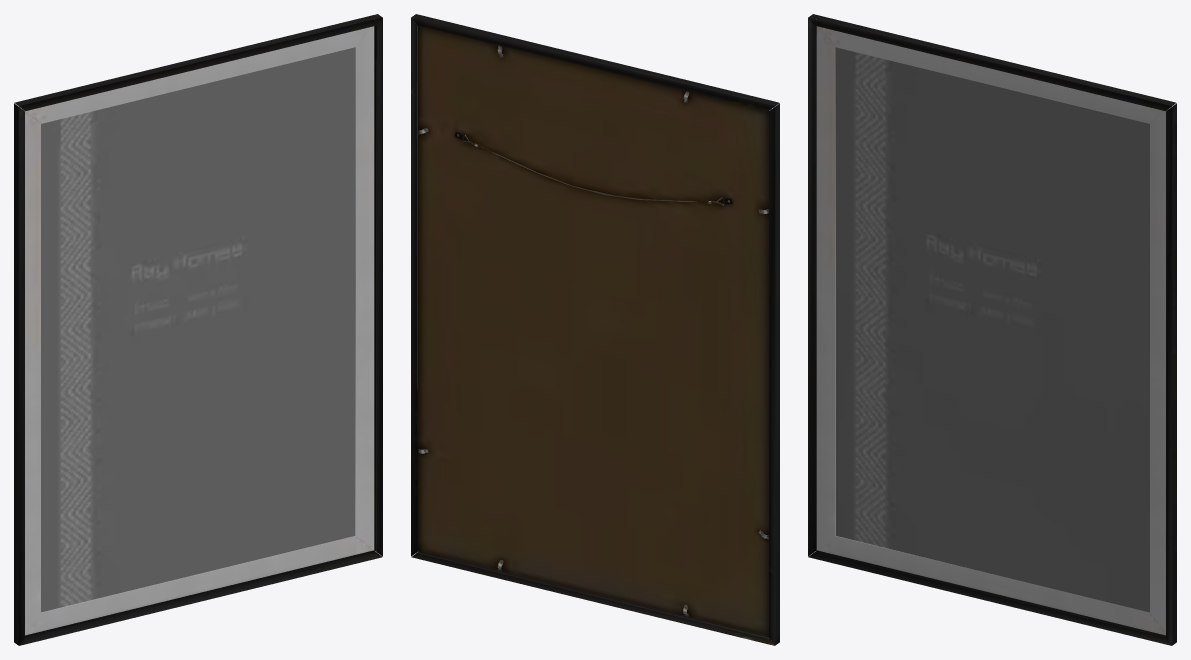
File: wall-art-tall-lightweight-e85633c8a4.glb
3 views of the same model, side by side, from view 1: azimuth 30°, elevation 25°; view 2: azimuth 150°, elevation 25°; view 3: azimuth 330°, elevation 25° (orthographic).
Parts seen in each view (by area): view 1: hanging_picture_frame_01; view 2: hanging_picture_frame_01; view 3: hanging_picture_frame_01.
Part boxes in pixels (x1,y1,x2,y2): hanging_picture_frame_01: (14,14,382,645); hanging_picture_frame_01: (411,14,779,645); hanging_picture_frame_01: (808,14,1176,645).
Size of the model in its own units: 0.5936 by 0.8406 by 0.0149.
Materials: 3 (3 with a texture image).
